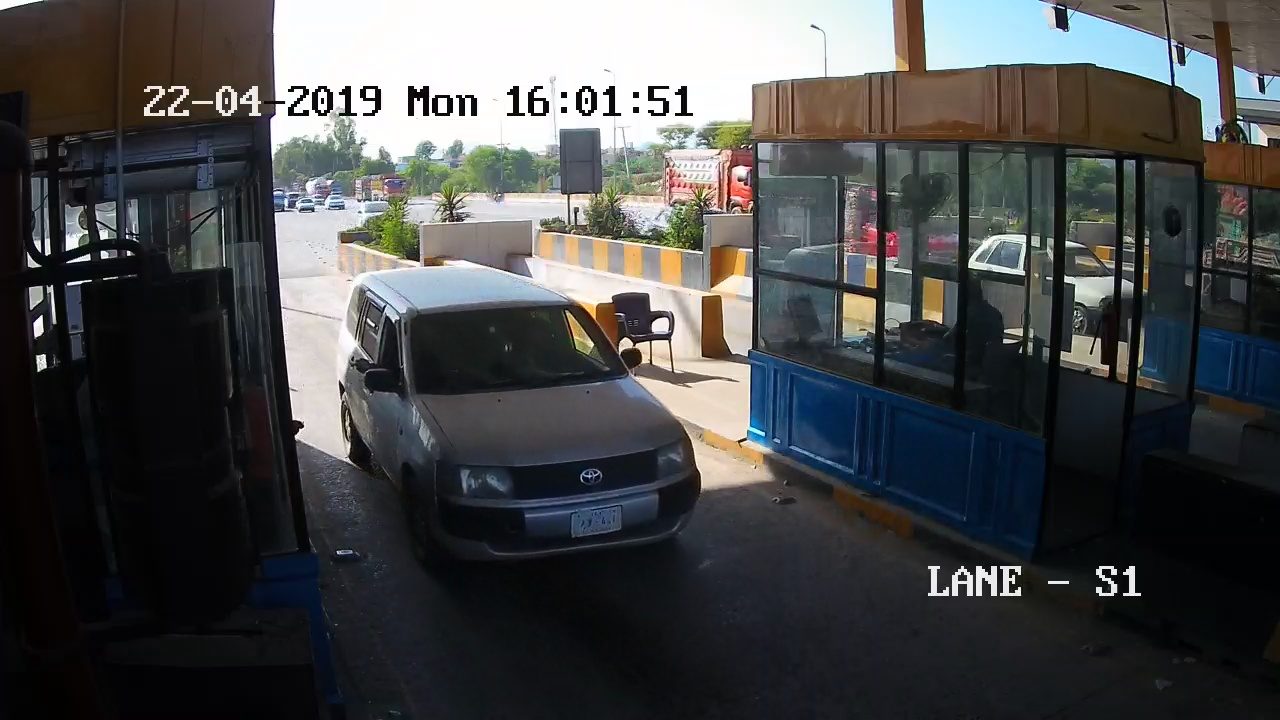car: (336, 267, 719, 600)
